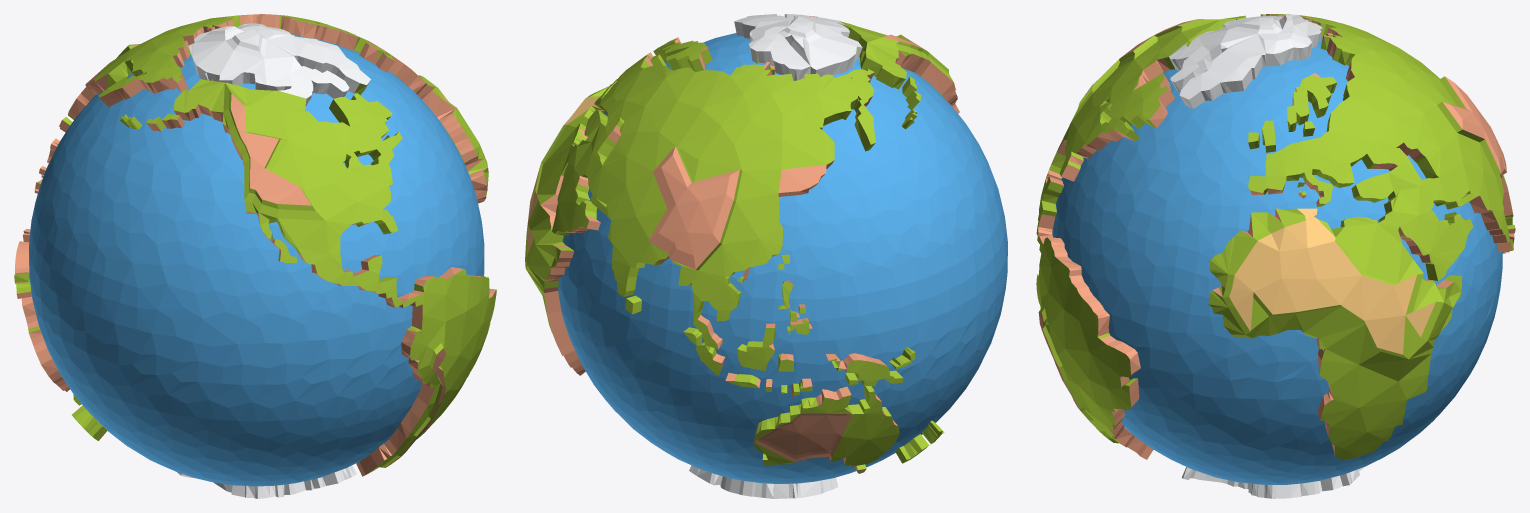
The model's file is earth.fbx.
3 views of the same model, side by side, from view 1: azimuth 30°, elevation 25°; view 2: azimuth 150°, elevation 25°; view 3: azimuth 270°, elevation 25° (orthographic).
Visible parts, largest first — view 1: Earth; view 2: Earth; view 3: Earth.
Part boxes in pixels (x1=…): Earth: x1=14, y1=14, x2=496, y2=498; Earth: x1=525, y1=14, x2=1007, y2=498; Earth: x1=1036, y1=14, x2=1515, y2=498.
Size of the model in its own units: 209 by 220 by 209.
Materials: 1 (1 with a texture image).
